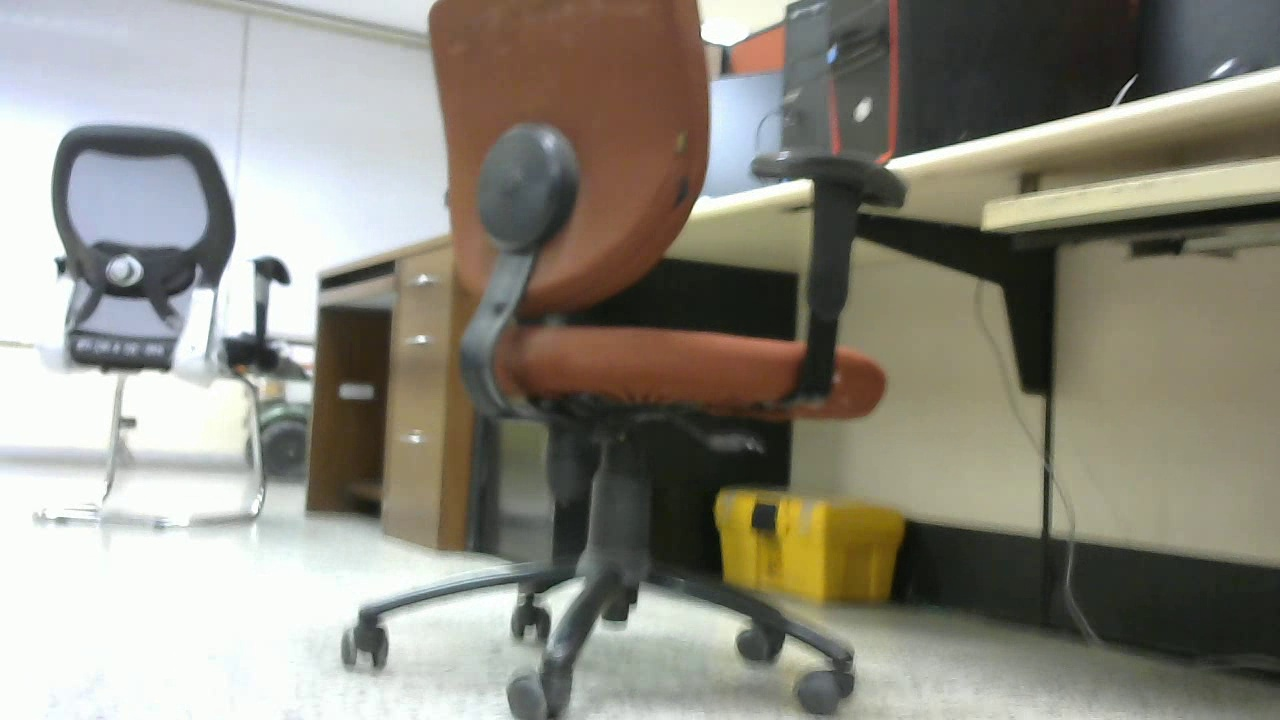chair: (340, 3, 906, 720), (19, 120, 310, 542)
